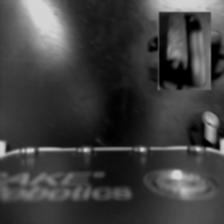Door Handle: (152, 19, 218, 84)
Lock: (188, 111, 224, 145)
